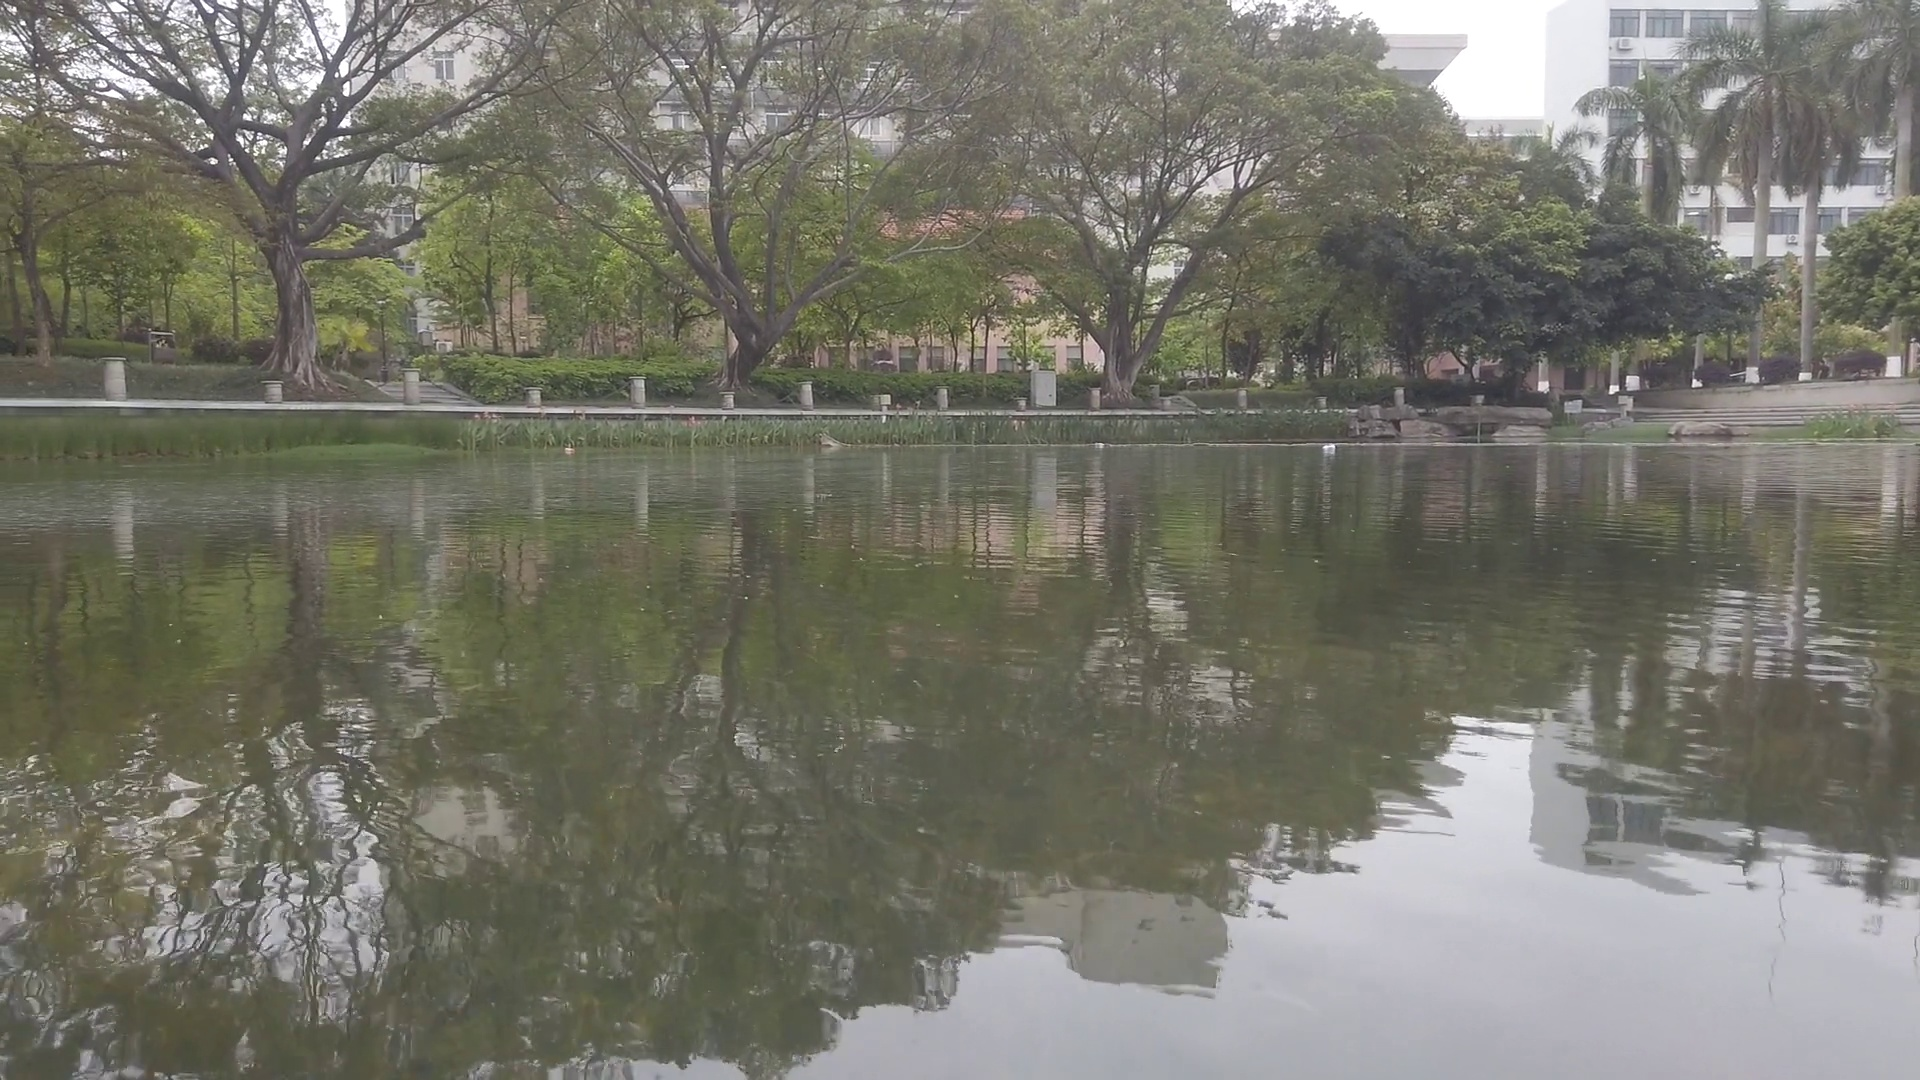bottle: (564, 440, 574, 458), (1323, 443, 1337, 450), (1091, 444, 1108, 450)
